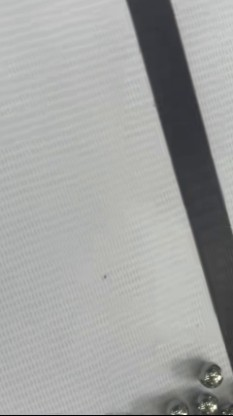ironball: (197, 359, 223, 388), (191, 390, 222, 414), (166, 393, 191, 414), (217, 401, 231, 414)
